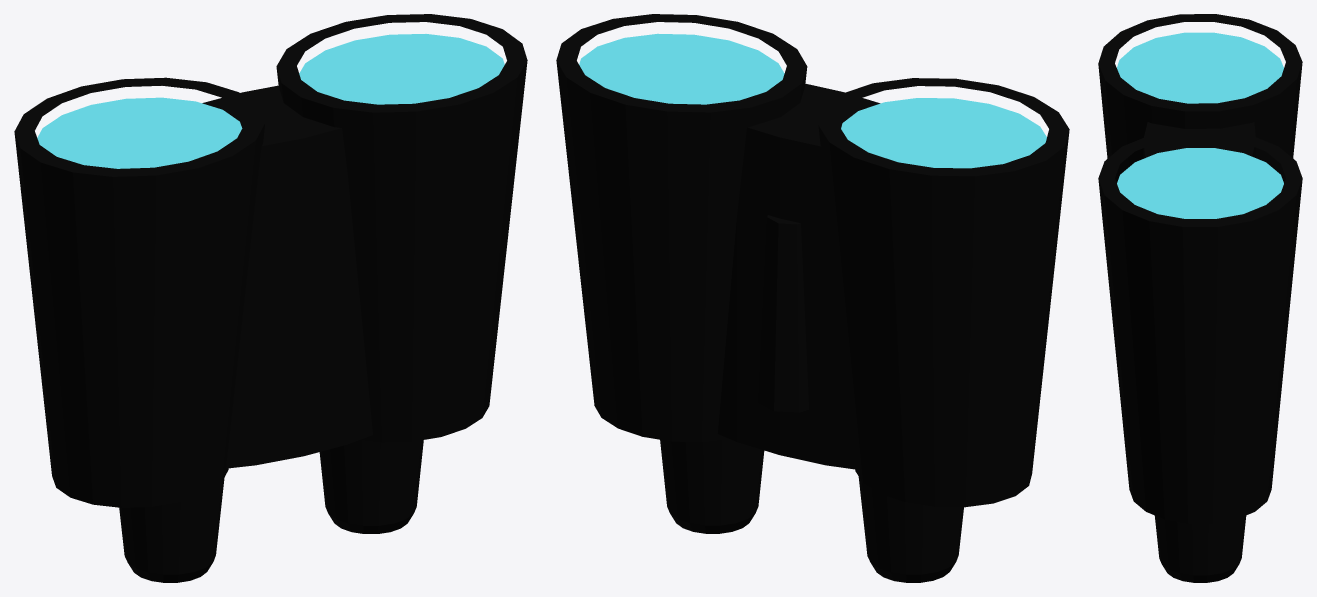
File: polypizza-binoculars.glb
The picture shows the model from 3 angles, left to right: view 1: azimuth 30°, elevation 25°; view 2: azimuth 150°, elevation 25°; view 3: azimuth 270°, elevation 25°; orthographic projection. The views are drawn at different scales.
Parts seen in each view (by area): view 1: binocular; view 2: binocular; view 3: binocular.
Part boxes in pixels (box(x1,y1,x2,y2)): binocular: box(14, 14, 527, 582); binocular: box(556, 14, 1069, 582); binocular: box(1098, 14, 1302, 582).
Bounding box in the file's own units: 0.4622 × 0.4083 × 0.1873.
